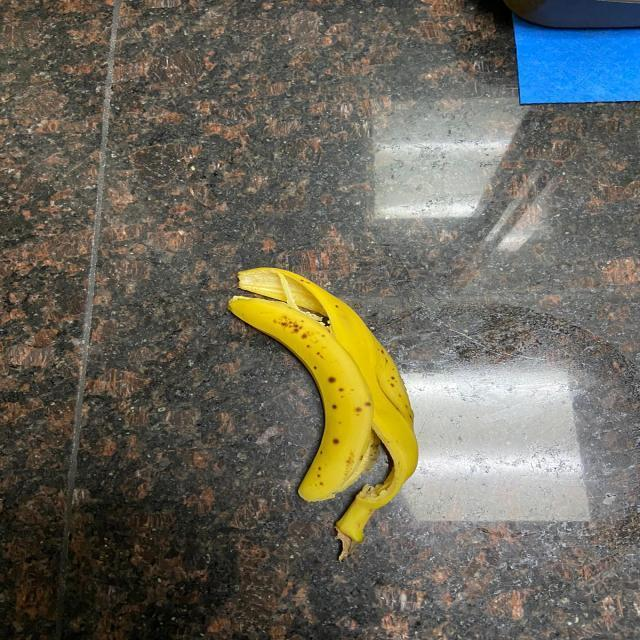banana-peel: (226, 265, 419, 562)
